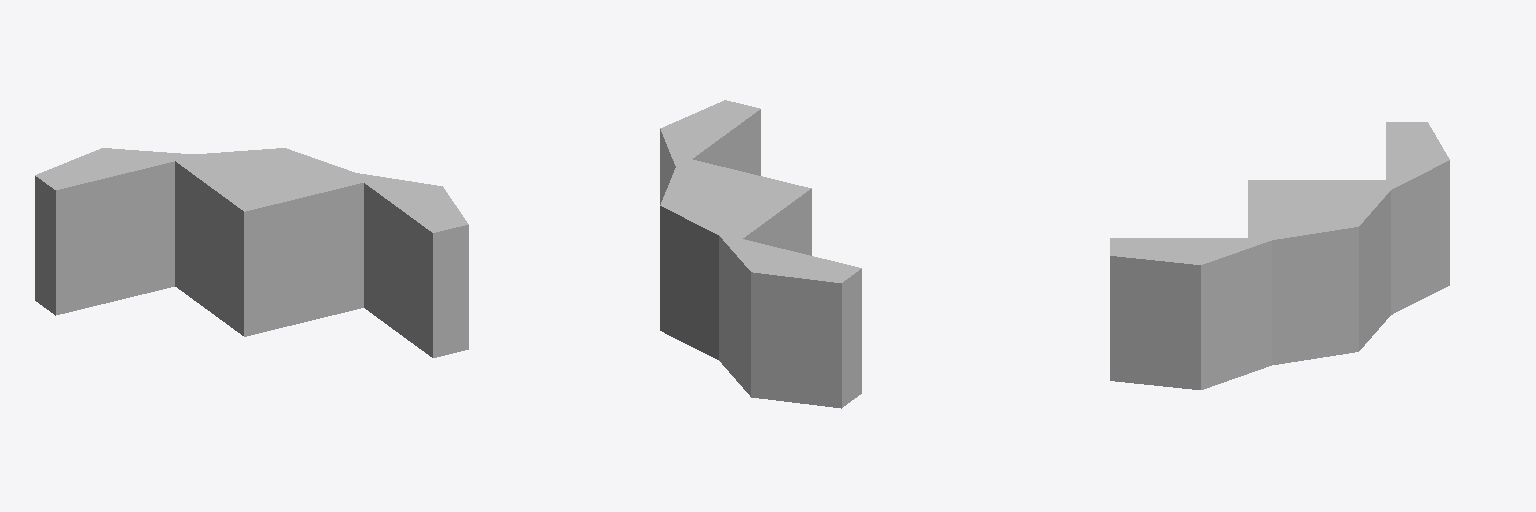
File: Cliff_Mid_Corner_Outer_Lg.obj
3 views of the same model, side by side, from view 1: azimuth 30°, elevation 25°; view 2: azimuth 150°, elevation 25°; view 3: azimuth 270°, elevation 25° (orthographic).
Visible parts, largest first — view 1: object1; view 2: object1; view 3: object1.
Part boxes in pixels (x1,y1,x2,y2): object1: (35, 148, 468, 357); object1: (660, 100, 861, 408); object1: (1110, 122, 1449, 389).
Bounding box in the file's own units: 2.46 × 1 × 2.46.